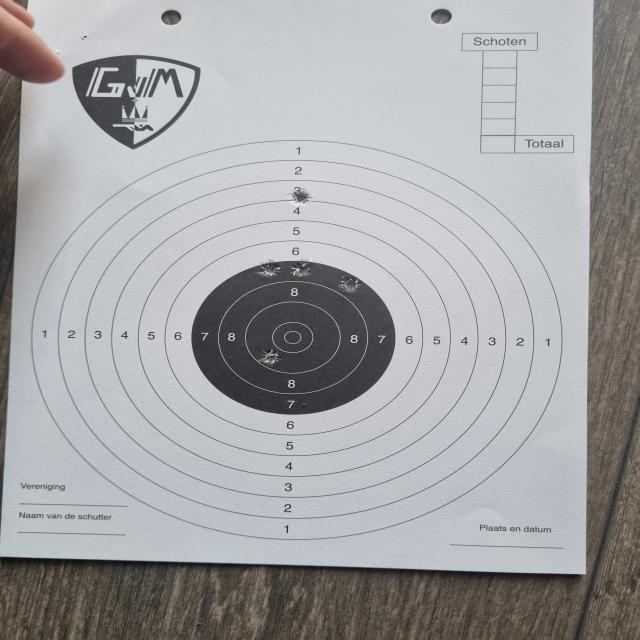4: (291, 188, 315, 205)
7: (338, 275, 363, 293), (255, 259, 281, 276), (289, 260, 313, 277)
9: (258, 350, 280, 366)
Target: (32, 140, 563, 541)
black_contour: (191, 262, 395, 414)
